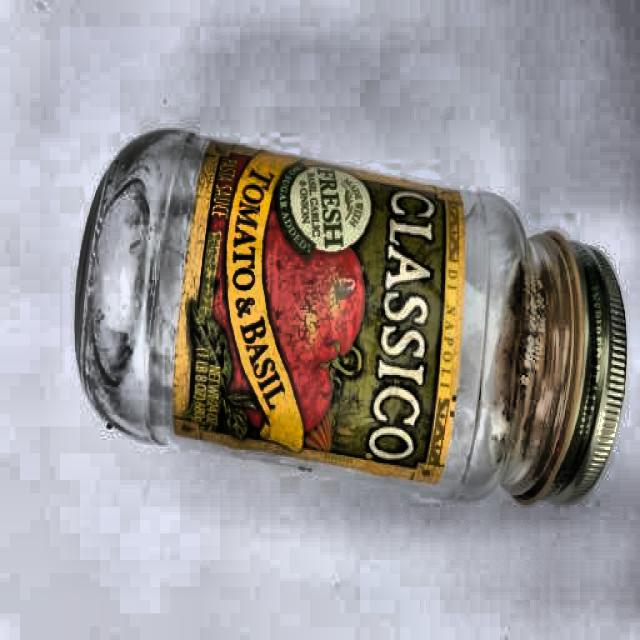glass: (78, 126, 629, 508)
